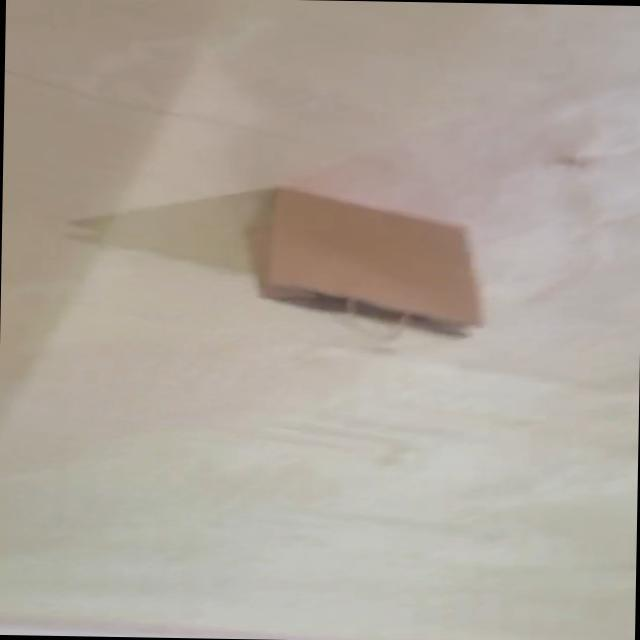Paper_Bag: (244, 187, 486, 344)
